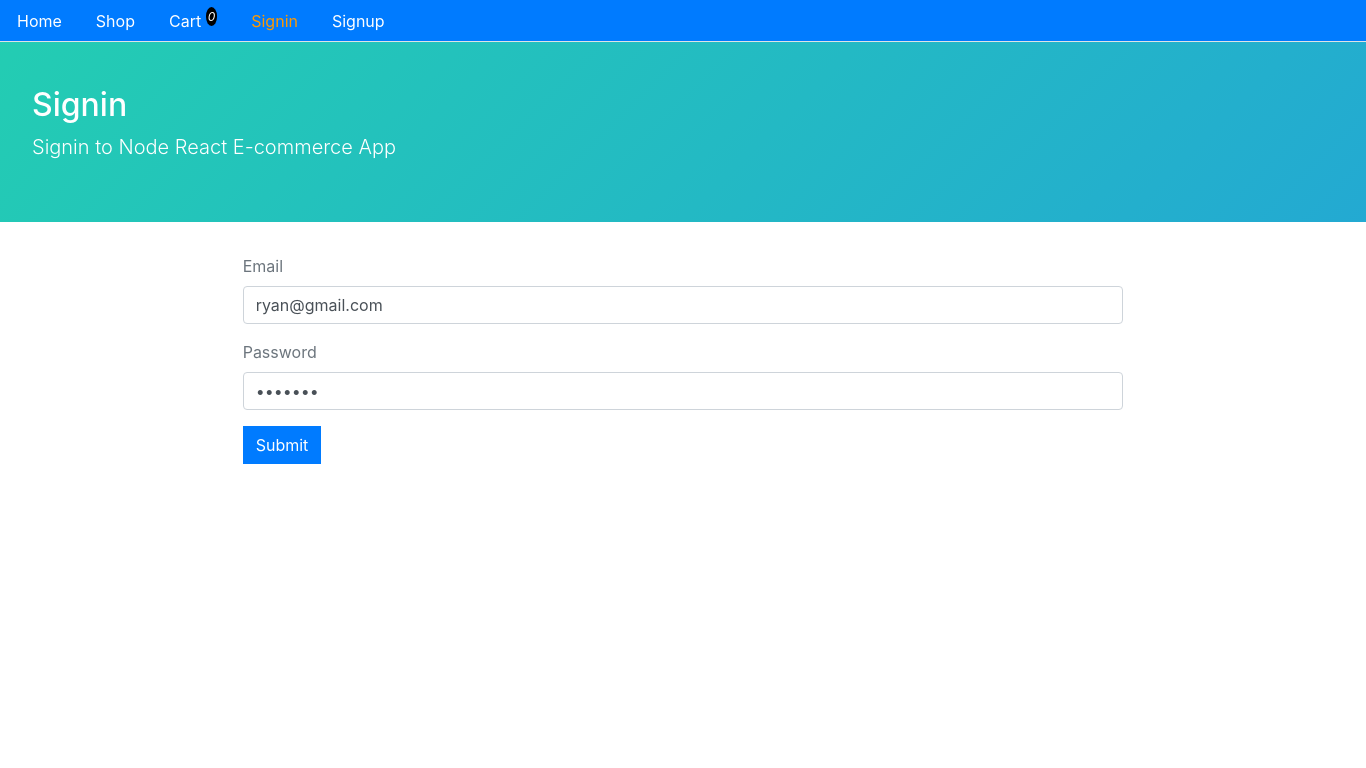
Test case: signin flow › shows the API error for invalid credentials
Step 1. Type "nobody@example.com" into the field → point(684, 305), box [243,286,1124,324]
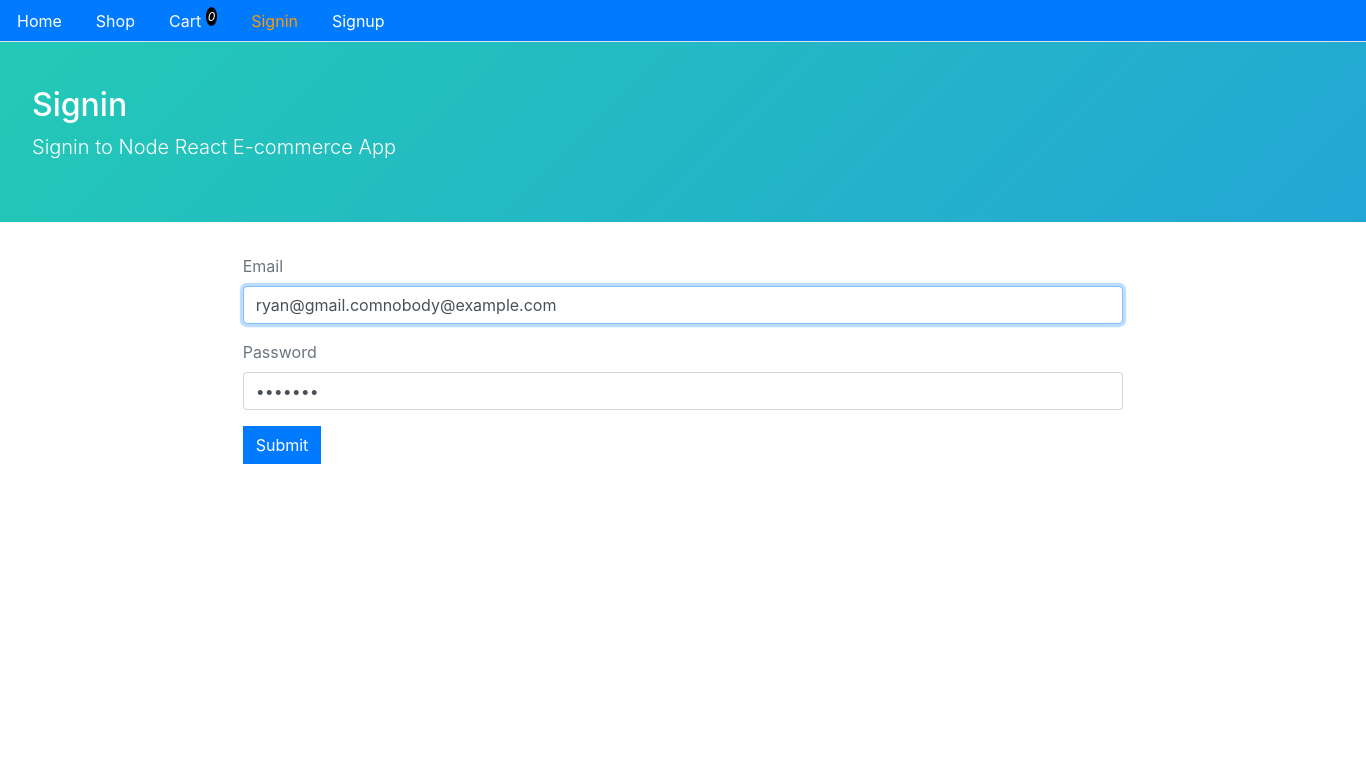
Step 2. Type "wrongpass" into the password field → point(684, 391), box [243,372,1124,410]
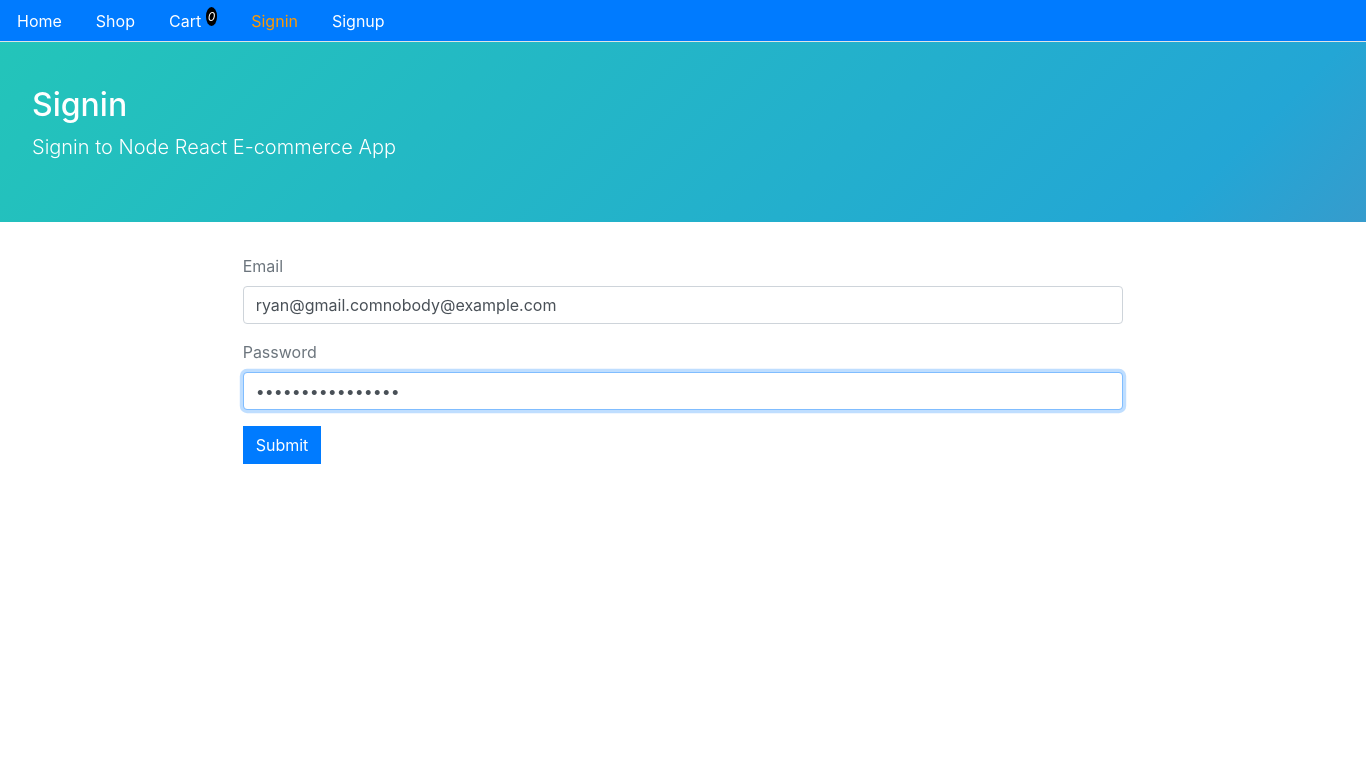
Step 3. Click the button "Submit" → point(283, 445), box [243,426,322,464]
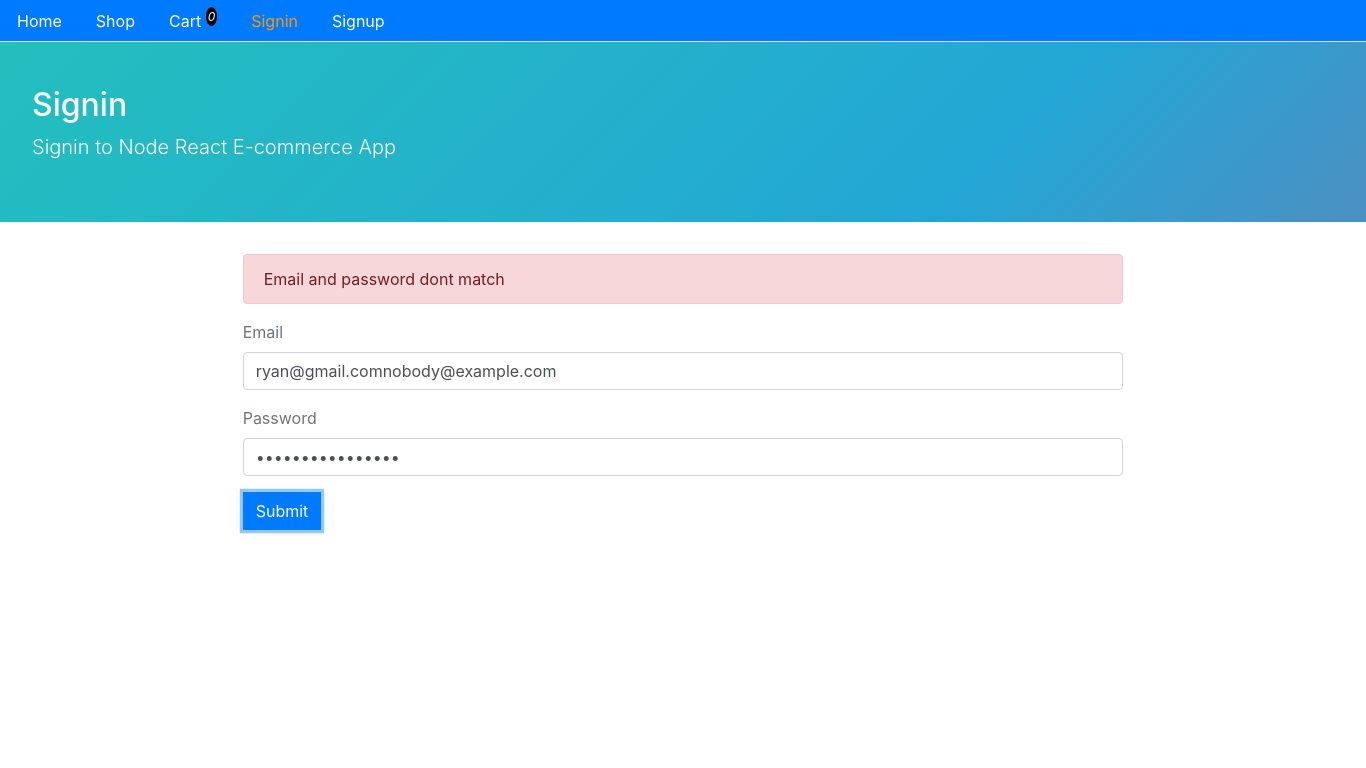
expect the text "Email and password dont match" is shown: met, box [243,254,1123,304]
expect the text with class "alert-danger" reads "Email and password dont match": met, box [264,269,505,289]
